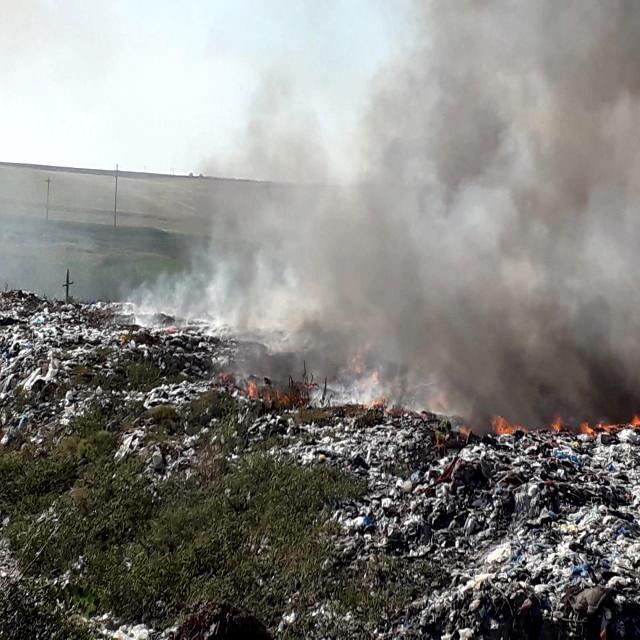Smoke: (143, 0, 640, 434)
